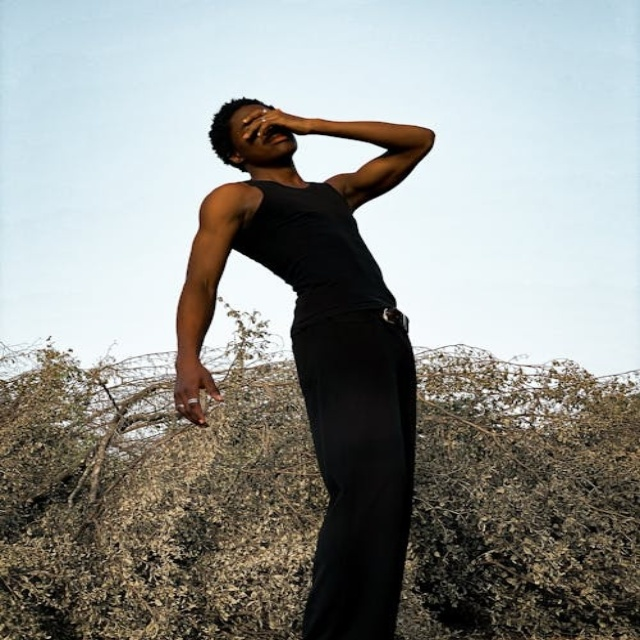Sin_guantes: (166, 357, 233, 429), (230, 100, 307, 145)
Sin_mascara: (261, 129, 294, 145)
